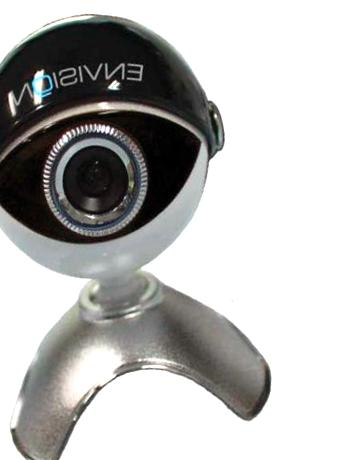webcam: (1, 3, 261, 285)
